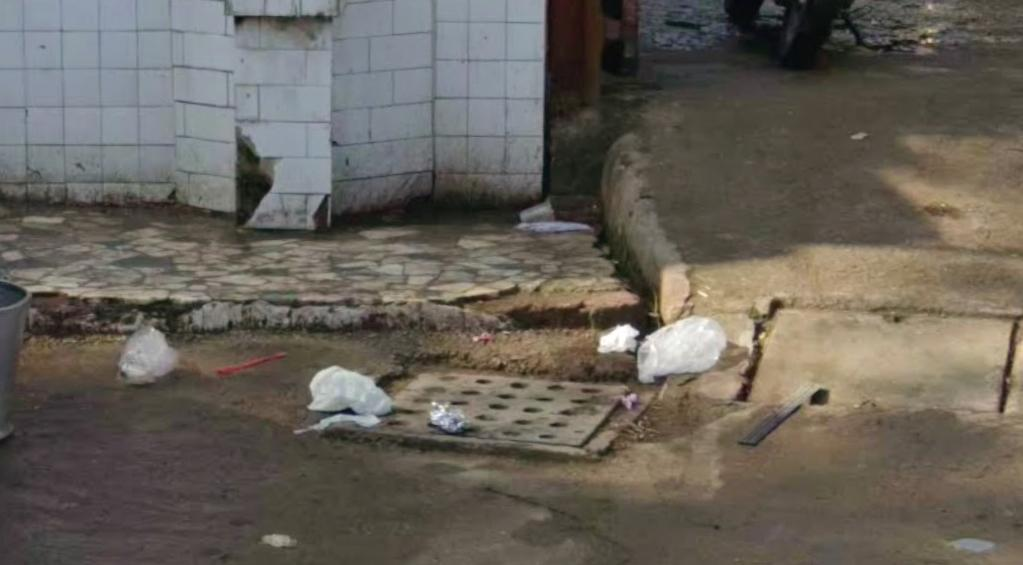garbage: (635, 314, 732, 391), (298, 361, 394, 428)
